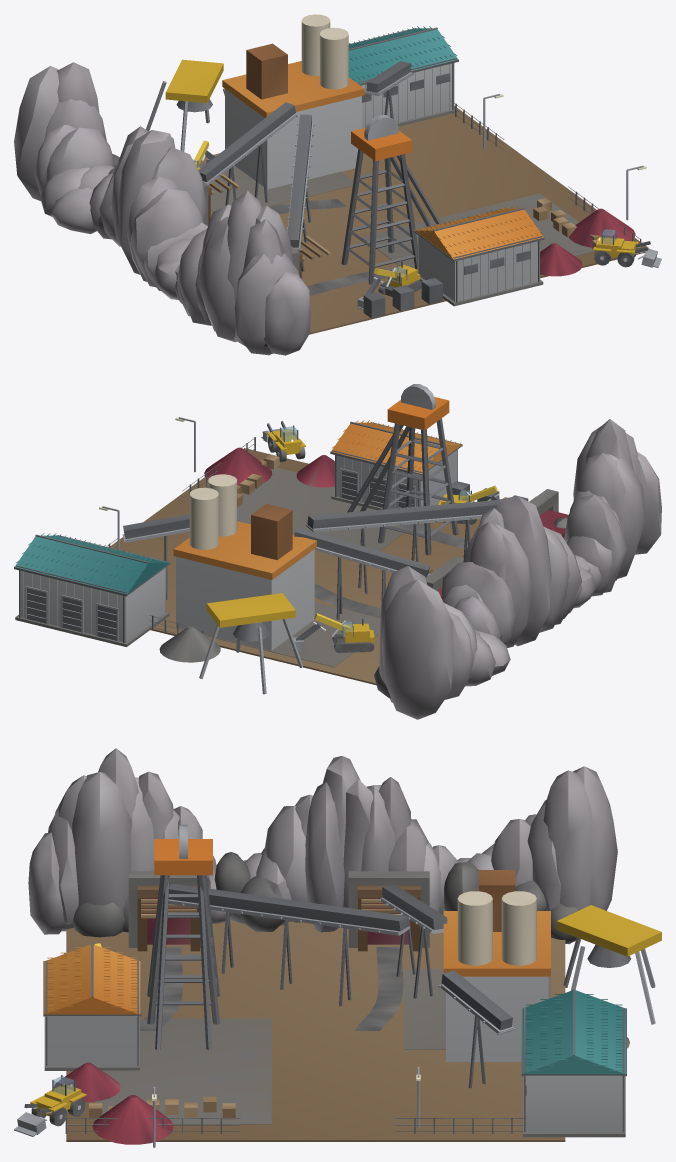
The model's file is Mine_P2.fbx.
The picture shows the model from 3 angles, top to bottom: view 1: azimuth 30°, elevation 25°; view 2: azimuth 150°, elevation 25°; view 3: azimuth 270°, elevation 25°; orthographic projection. The views are drawn at different scales.
Parts seen in each view (by area): view 1: Mine.Cliff, Mine.Apron, Mine.Plant, Mine.Winder, Mine.Crusher, Mine.Headframe, Mine.Conv1, Mine.LoadGantry, Mine.Clutter, Mine.Conv0, Mine.Loader, Mine.Spoil0 (+8 smaller); view 2: Mine.Cliff, Mine.Apron, Mine.Plant, Mine.Crusher, Mine.Headframe, Mine.Winder, Mine.Conv0, Mine.LoadGantry, Mine.Conv1, Mine.Excav2, Mine.Spoil2, Mine.ConvOut (+10 smaller); view 3: Mine.Apron, Mine.Cliff, Mine.Plant, Mine.Crusher, Mine.Winder, Mine.Headframe, Mine.Conv0, Mine.LoadGantry, Mine.Adit1, Mine.Adit0, Mine.Spoil0, Mine.Conv1 (+7 smaller).
Boxes of the visible parts, x1,y1,x2,y2 form: Mine.Cliff: [14, 62, 310, 355]; Mine.Apron: [198, 106, 650, 334]; Mine.Plant: [222, 14, 364, 189]; Mine.Winder: [413, 206, 544, 306]; Mine.Crusher: [348, 26, 458, 128]; Mine.Headframe: [341, 115, 440, 284]; Mine.Conv1: [198, 102, 297, 205]; Mine.LoadGantry: [146, 59, 224, 151]; Mine.Clutter: [363, 198, 601, 318]; Mine.Conv0: [286, 114, 314, 271]; Mine.Loader: [593, 228, 661, 267]; Mine.Spoil0: [569, 208, 635, 247]; Mine.Cliff: [374, 419, 661, 719]; Mine.Apron: [110, 448, 480, 685]; Mine.Plant: [173, 474, 316, 650]; Mine.Crusher: [14, 533, 170, 646]; Mine.Headframe: [347, 384, 458, 555]; Mine.Winder: [330, 420, 462, 509]; Mine.Conv0: [306, 500, 498, 593]; Mine.LoadGantry: [199, 593, 302, 694]; Mine.Conv1: [294, 527, 430, 619]; Mine.Excav2: [291, 613, 374, 652]; Mine.Spoil2: [159, 626, 220, 662]; Mine.ConvOut: [122, 514, 189, 599]; Mine.Apron: [66, 920, 565, 1141]; Mine.Cliff: [28, 748, 617, 944]; Mine.Plant: [443, 870, 550, 1061]; Mine.Crusher: [521, 989, 626, 1137]; Mine.Winder: [43, 943, 141, 1070]; Mine.Headframe: [147, 824, 219, 1050]; Mine.Conv0: [168, 883, 410, 1006]; Mine.LoadGantry: [556, 905, 661, 1024]; Mine.Adit1: [348, 871, 429, 951]; Mine.Adit0: [128, 871, 209, 951]; Mine.Spoil0: [92, 1095, 173, 1144]; Mine.Conv1: [378, 885, 447, 998].
Size of the model in its own units: 8732 by 3110 by 8829.
